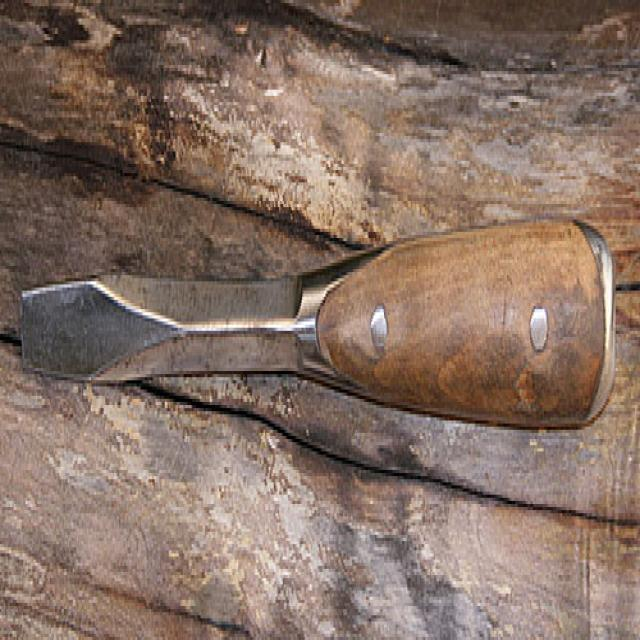screwdriver: (0, 168, 625, 460)
